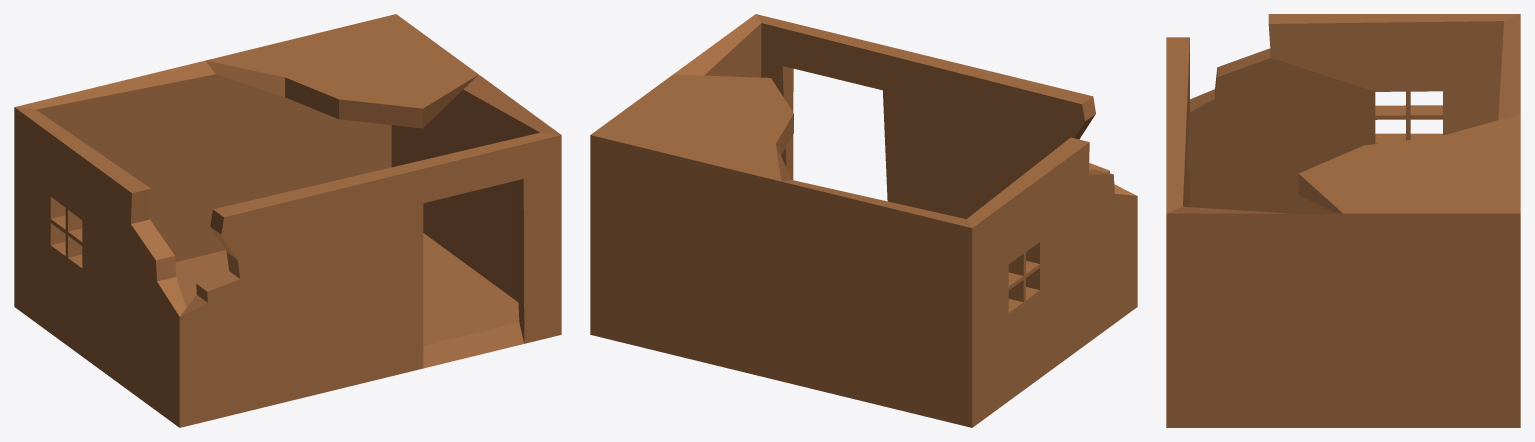
File: House_1213.fbx
3 views of the same model, side by side, from view 1: azimuth 30°, elevation 25°; view 2: azimuth 150°, elevation 25°; view 3: azimuth 270°, elevation 25° (orthographic). The views are drawn at different scales.
Parts seen in each view (by area): view 1: House; view 2: House; view 3: House.
Boxes of the visible parts, bbox=[...] form: House: bbox=[14, 14, 561, 427]; House: bbox=[590, 14, 1137, 427]; House: bbox=[1166, 14, 1520, 427].
Bounding box in the file's own units: 4000 × 2000 × 3000.
